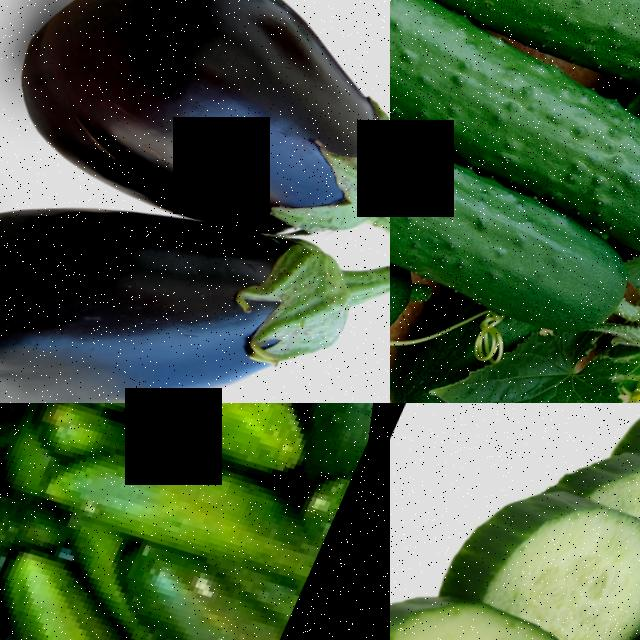cucumber: (390, 97, 640, 363), (390, 24, 640, 274), (38, 419, 331, 597), (49, 403, 372, 492), (449, 0, 640, 150), (390, 570, 640, 640), (390, 187, 443, 403), (390, 0, 478, 128)
eggplant: (0, 0, 390, 286), (0, 138, 390, 403)
